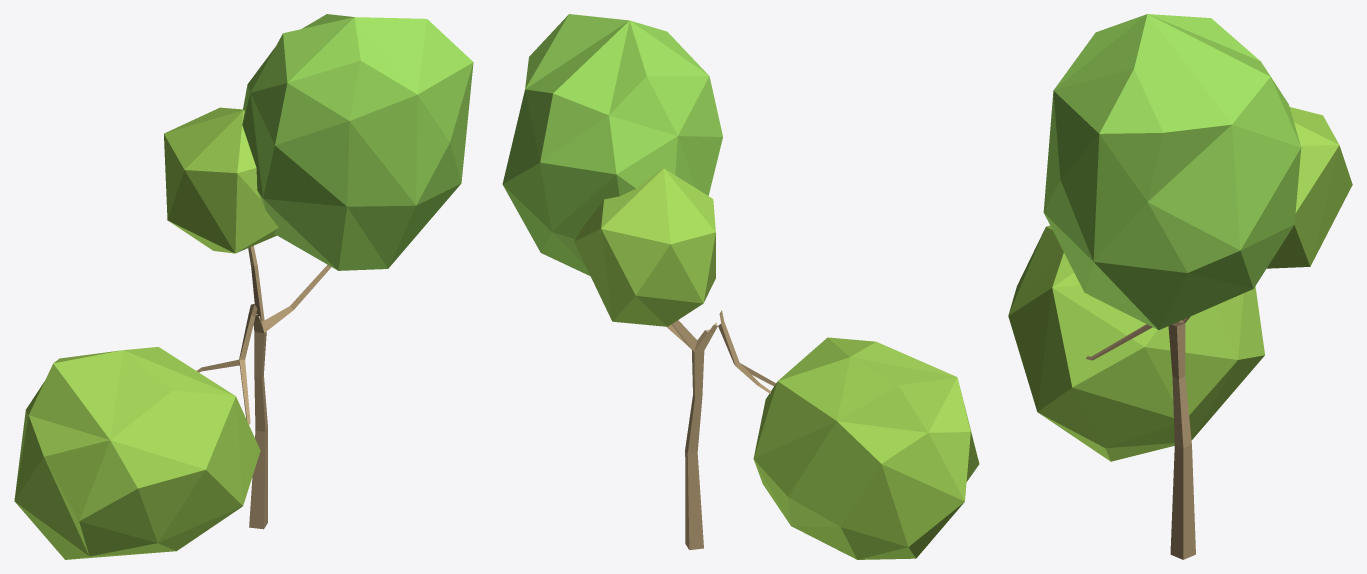
The model's file is Apple_Tree_crk_s_BT_02.fbx.
The picture shows the model from 3 angles, left to right: view 1: azimuth 30°, elevation 25°; view 2: azimuth 150°, elevation 25°; view 3: azimuth 270°, elevation 25°; orthographic projection. The views are drawn at different scales.
Visible parts, largest first — view 1: Apple_Tree_crk_s_BT_02; view 2: Apple_Tree_crk_s_BT_02; view 3: Apple_Tree_crk_s_BT_02.
Part boxes in pixels (box(x1,y1,x2,y2)): Apple_Tree_crk_s_BT_02: box(14, 14, 473, 559); Apple_Tree_crk_s_BT_02: box(502, 14, 979, 559); Apple_Tree_crk_s_BT_02: box(1008, 14, 1352, 559).
Bounding box in the file's own units: 279 × 304 × 162.
